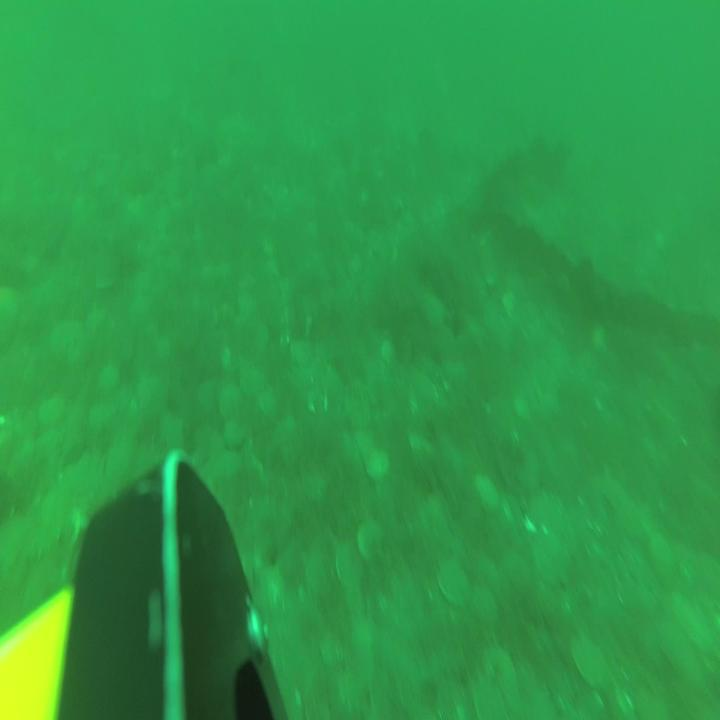scallop: (573, 635, 608, 693), (532, 536, 570, 579), (485, 647, 518, 695), (439, 561, 470, 611), (473, 677, 509, 720), (345, 642, 373, 694), (358, 517, 386, 566), (53, 315, 81, 362), (470, 585, 496, 630), (472, 559, 499, 601), (334, 547, 365, 583), (475, 474, 501, 511), (97, 360, 121, 400), (38, 396, 66, 428), (90, 397, 116, 431), (364, 450, 389, 485), (2, 283, 16, 345), (289, 338, 312, 374), (225, 413, 247, 448), (320, 632, 343, 665), (218, 384, 244, 412), (259, 386, 281, 419), (379, 336, 396, 368)
